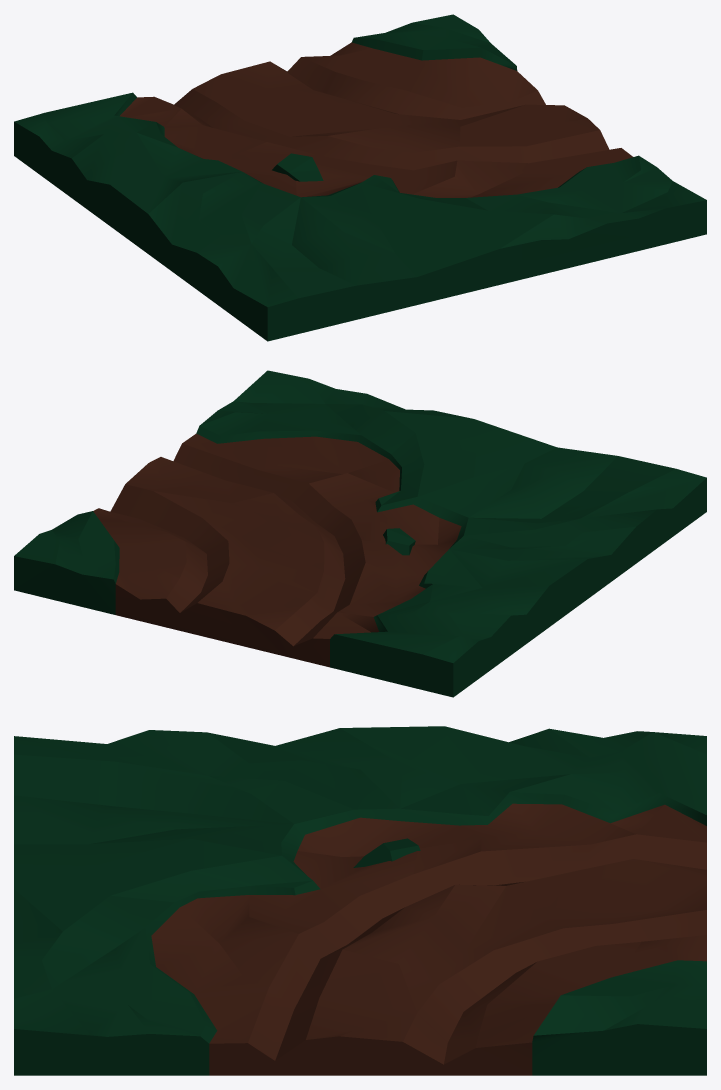
Rendered from Ground_Road_Turn_LB.fbx.
The picture shows the model from 3 angles, top to bottom: view 1: azimuth 30°, elevation 25°; view 2: azimuth 150°, elevation 25°; view 3: azimuth 270°, elevation 25°; orthographic projection. The views are drawn at different scales.
Visible parts, largest first — view 1: Ground_Road_Turn_LB; view 2: Ground_Road_Turn_LB; view 3: Ground_Road_Turn_LB.
Part boxes in pixels (x1,y1,x2,y2): Ground_Road_Turn_LB: (14, 14, 706, 341); Ground_Road_Turn_LB: (14, 370, 706, 697); Ground_Road_Turn_LB: (14, 726, 706, 1075).
Bounding box in the file's own units: 147 × 14.83 × 147.
